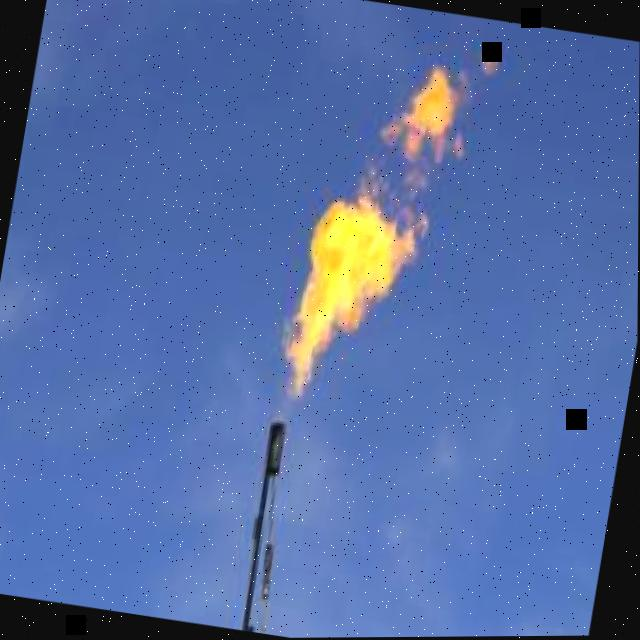fire: (285, 172, 430, 409), (381, 67, 462, 164)
